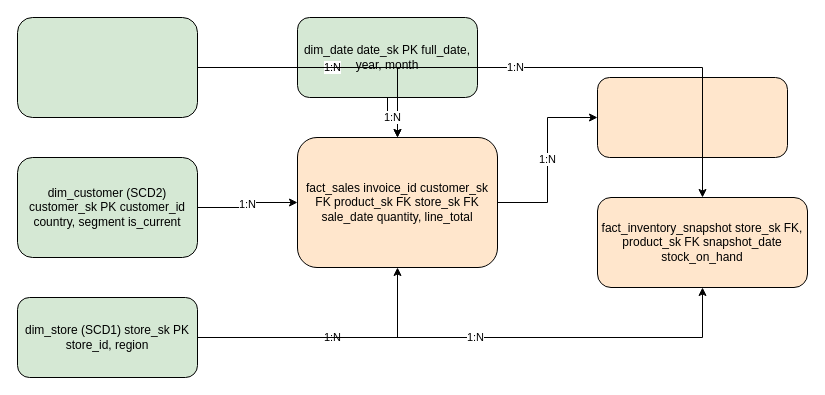
The diagram is 825 pixels wide and 395 high, and some of its shapes have lost their labels. Here are the shapes that lost their labels. From the top down, the box of each, then its label:
(16, 16, 198, 118): dim_product (SCD2) product_sk PK stock_code unit_price is_current
(596, 76, 788, 158): fact_returns return_invoice_id original_invoice_id FK product_sk FK
